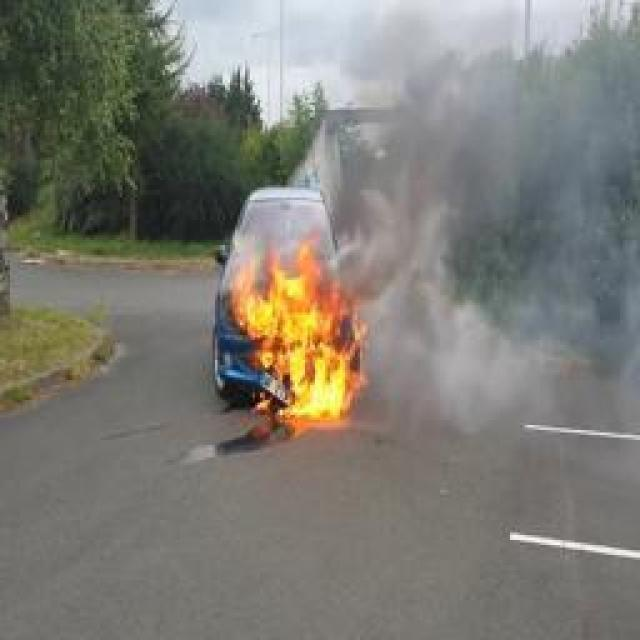Fire: (229, 242, 369, 418)
